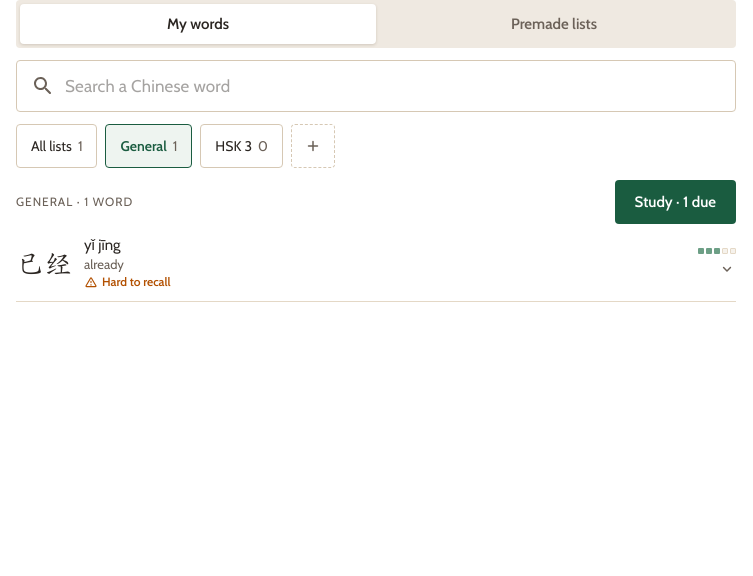
Test: AddWords — the word rows › flags a leech, and names its directions when opened
Expected: the text "Hard to recall" is shown, [84, 274, 171, 289]
Click the text "已经".
click(44, 262)  # box [16, 248, 72, 276]
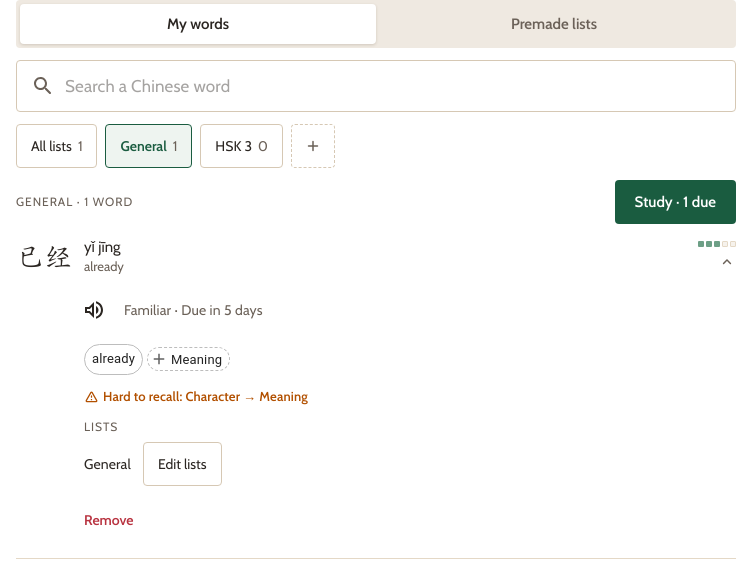
Expected: the text "Hard to recall: Character → Meaning" is shown, [84, 388, 308, 404]
